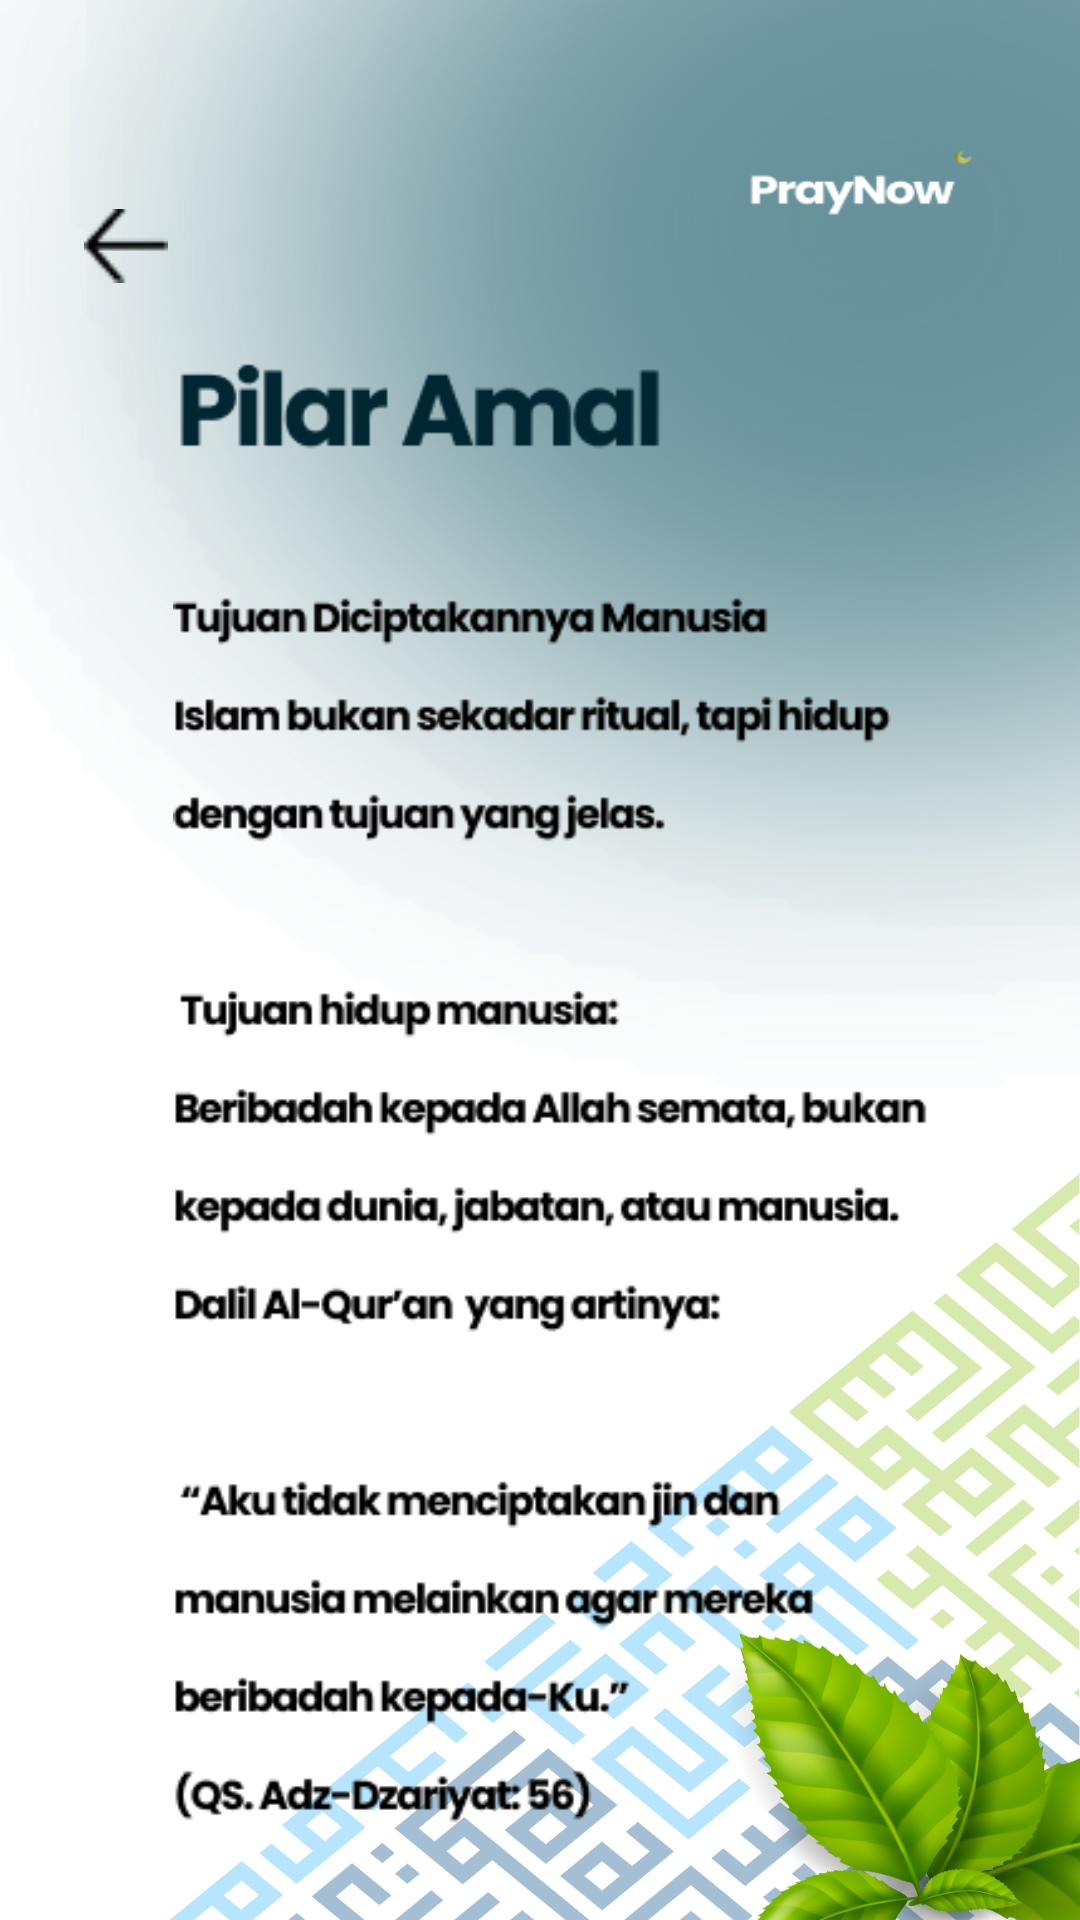

Icons on this 1080 x 1920 Android screen, each with the point to tap as [x,y]:
Back: [126,246]
